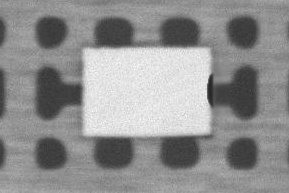DIE_BROKEN: (204, 67, 215, 114)
